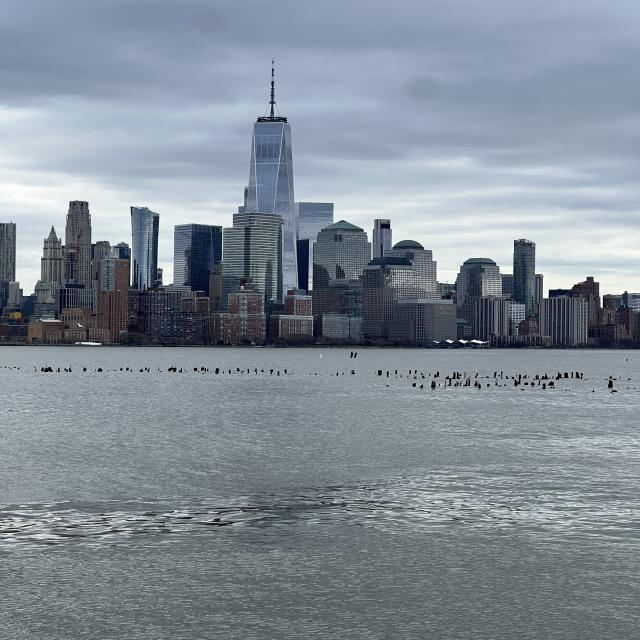WTC: (248, 44, 292, 214)
